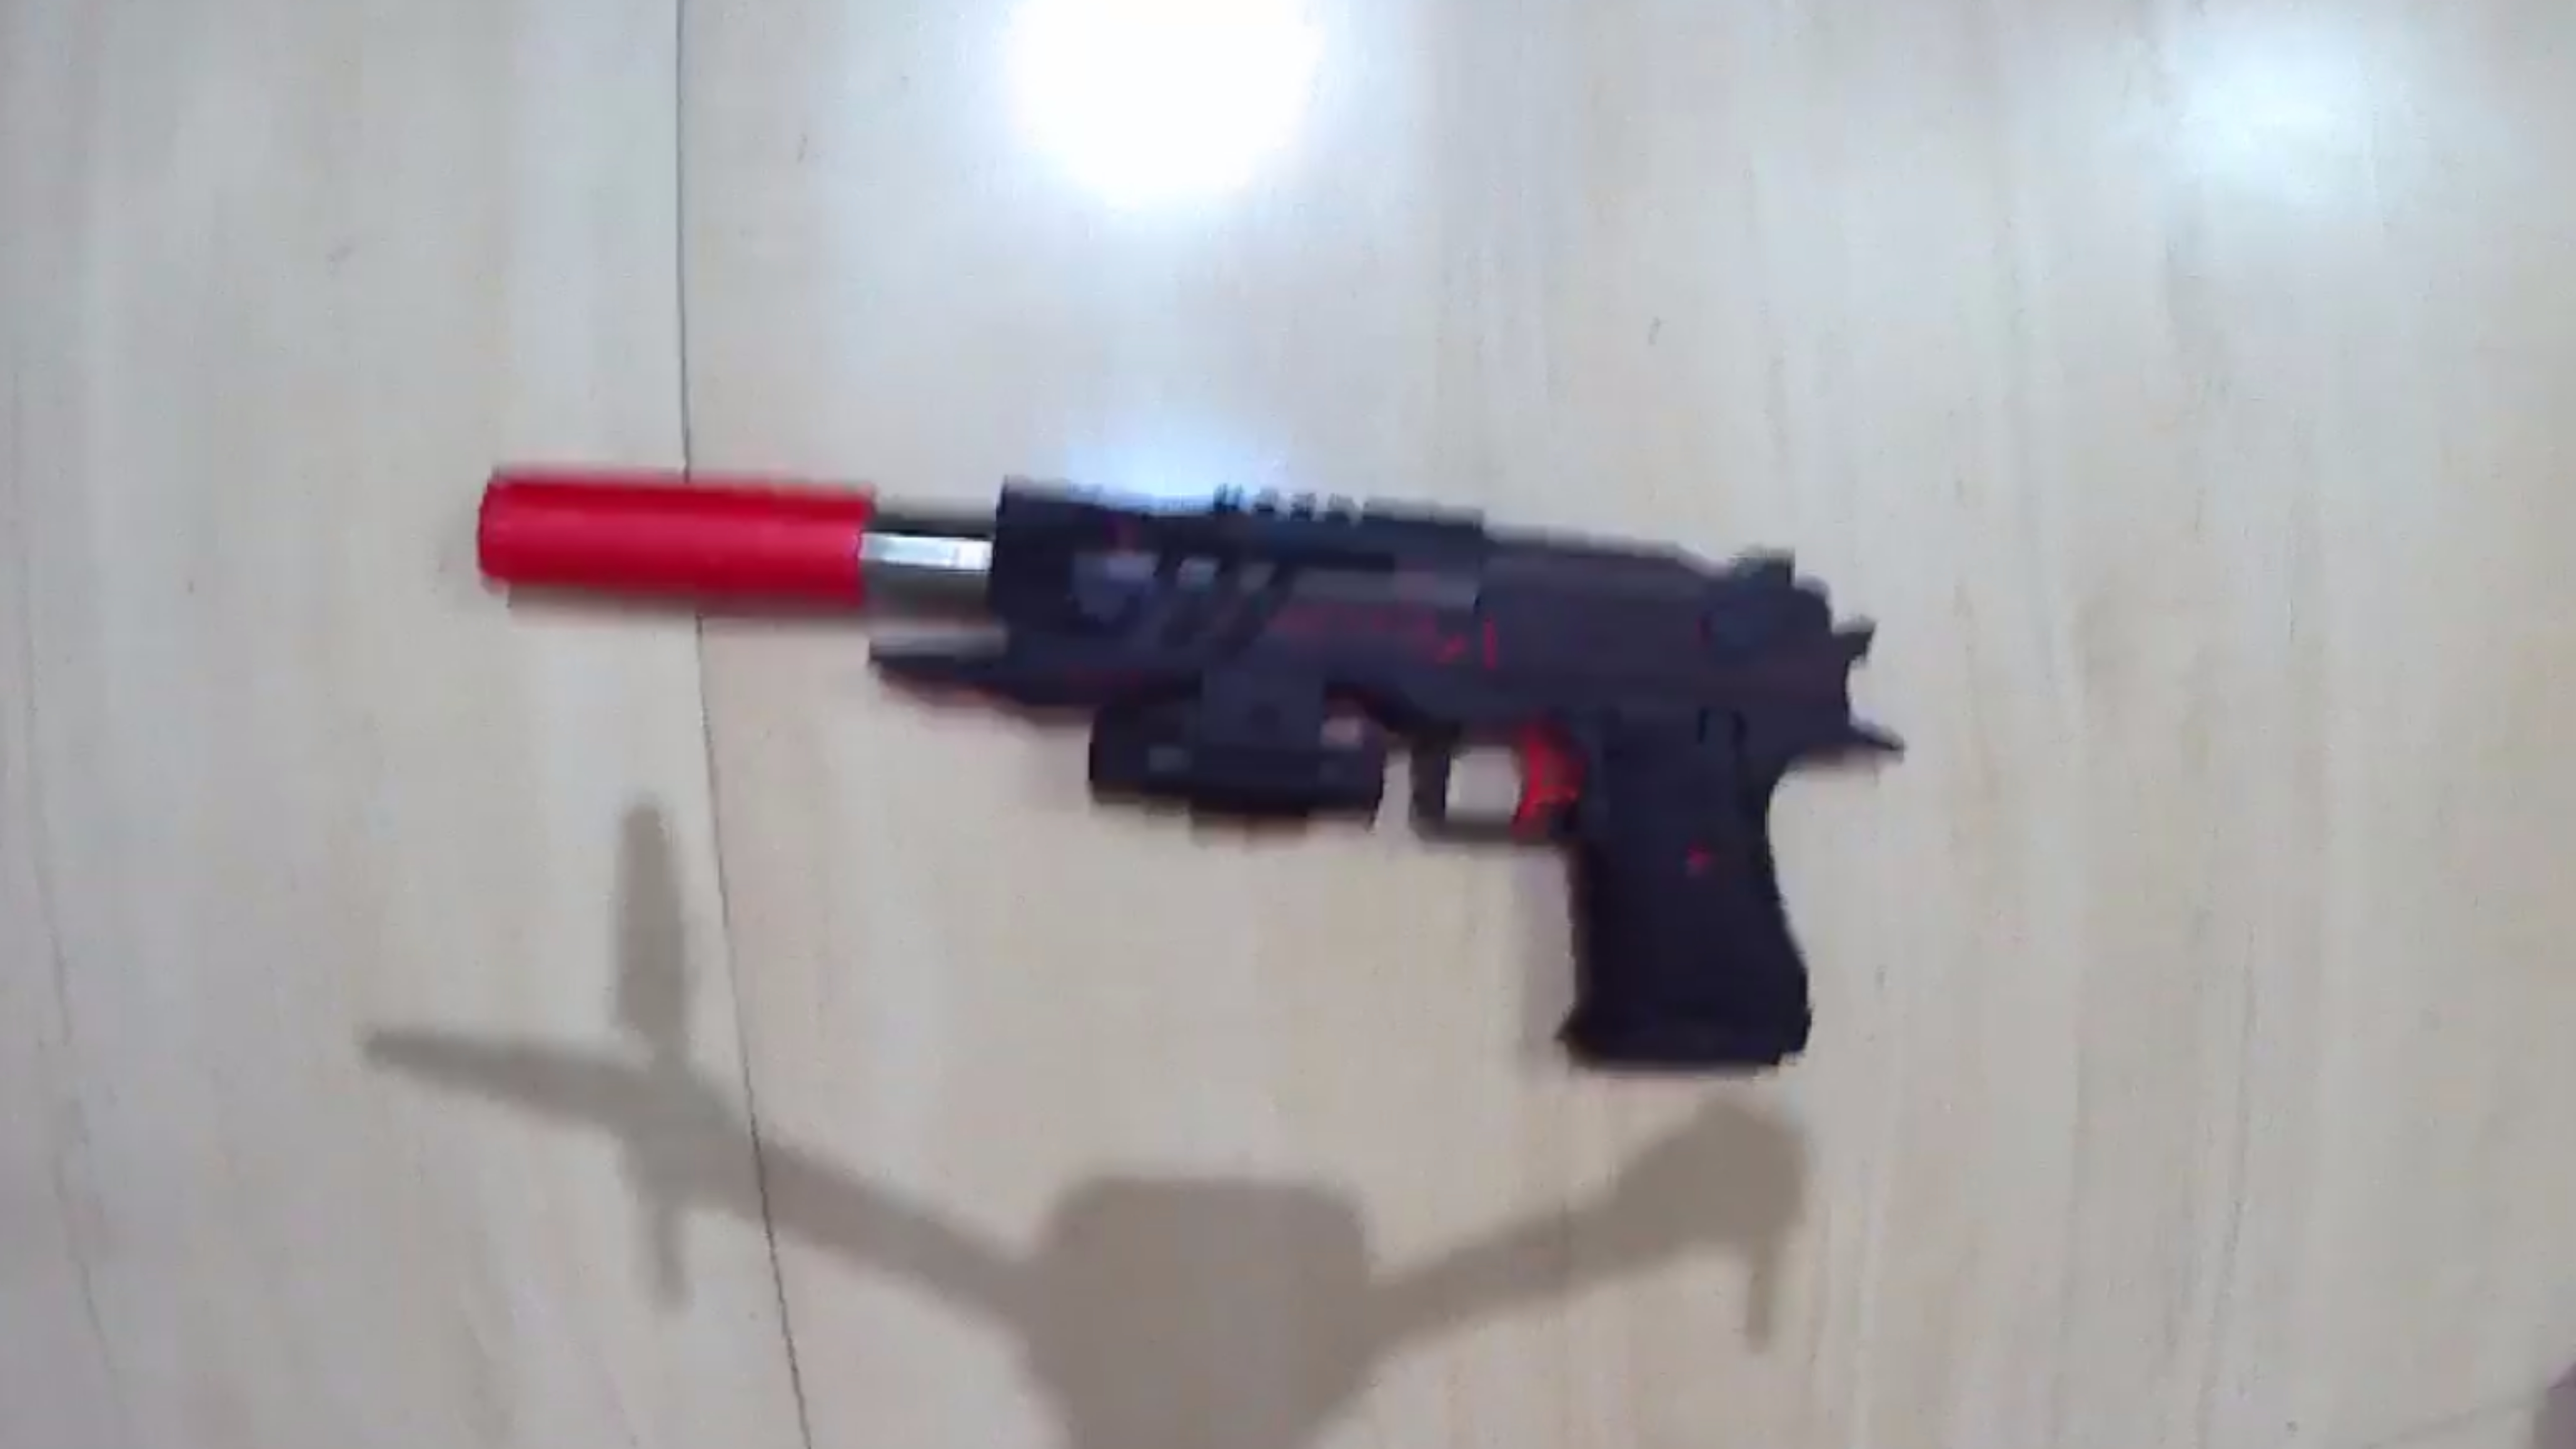handgun: (430, 410, 1925, 1169)
